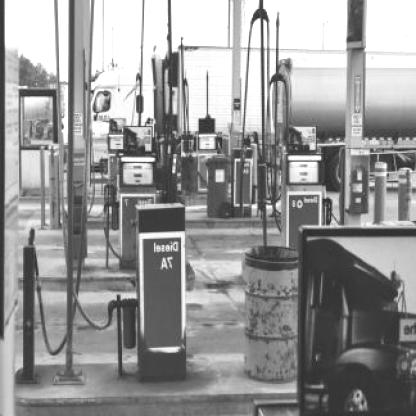truck: (60, 38, 415, 187), (292, 232, 415, 416), (260, 57, 415, 203)
